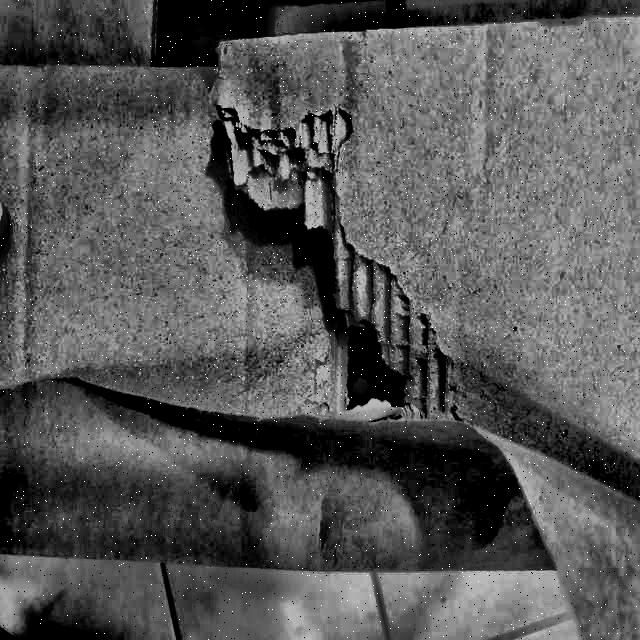box: (1, 1, 640, 640)
hole: (327, 296, 420, 419)
